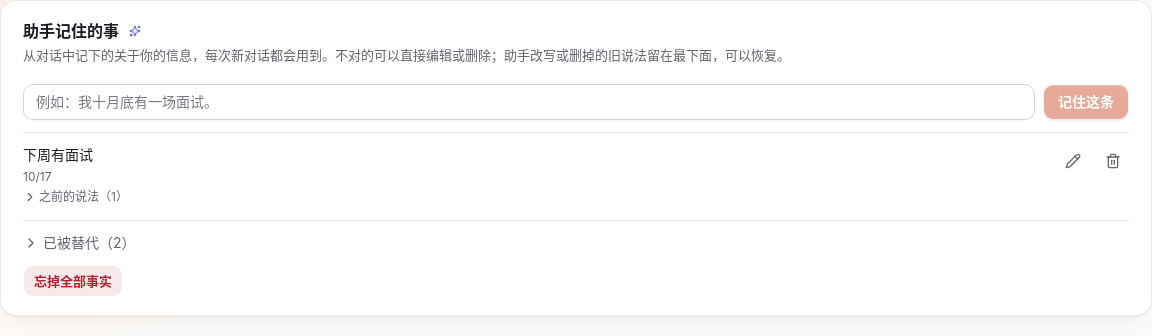
MemoryListSection facts › deleting a fact takes its earlier versions; the dropped ones stay
The image size is (1152, 336).
Click the button named "删除": click(1113, 161) 1097,145 -> 1129,177
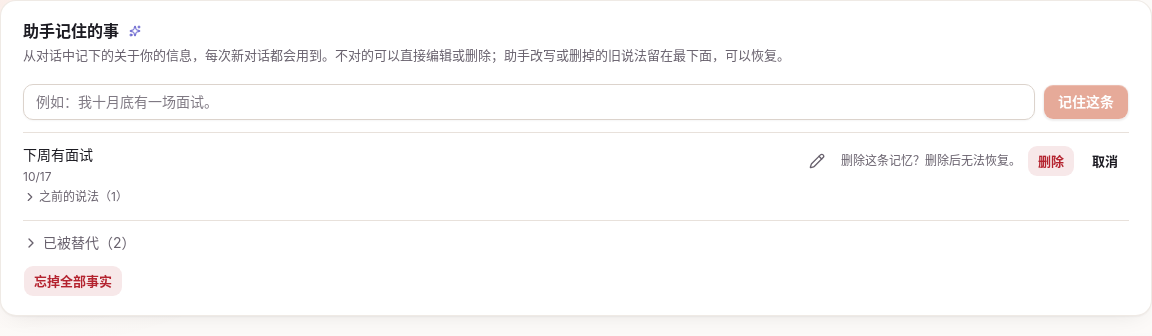
Click the button "删除": click(1051, 161) 1027,145 -> 1075,177
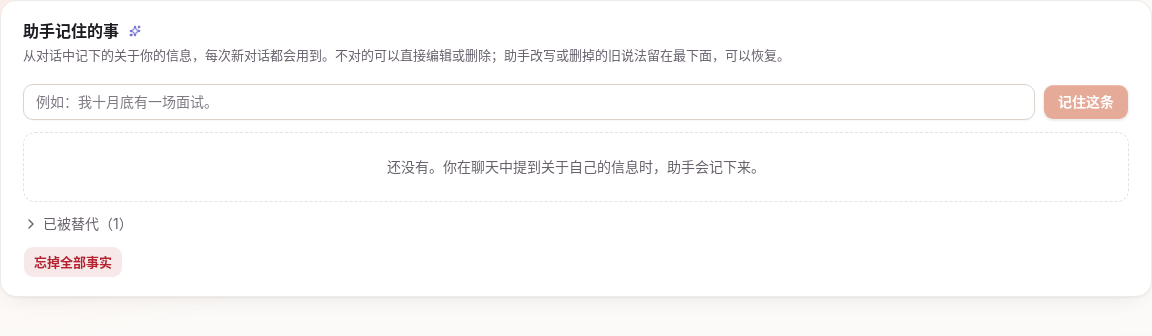
Now the text "还没有。你在聊天中提到关于自己的信息时，助手会记下来。" is shown, box 23,132 -> 1129,202
Now the button "已被替代（1）" is shown, box 23,214 -> 133,234
